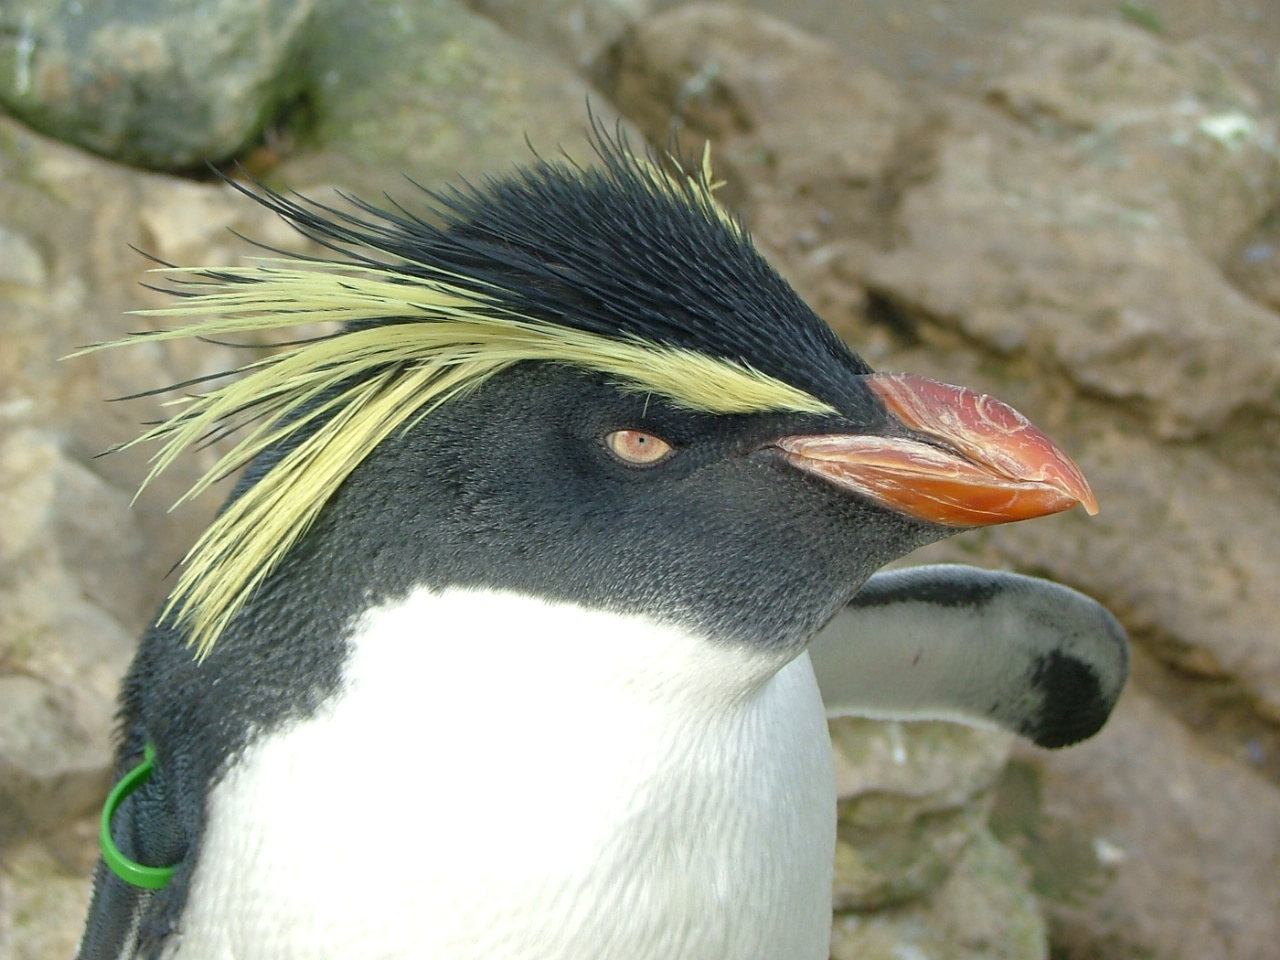penguin: (110, 162, 1133, 960)
